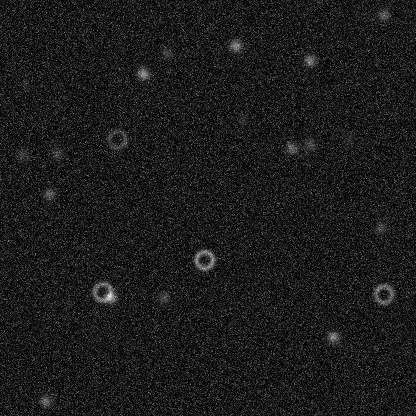Ring: (90, 279, 114, 303), (371, 282, 395, 306), (192, 247, 216, 271), (105, 127, 129, 151)
Spot: (102, 289, 118, 305), (16, 76, 32, 92), (49, 145, 65, 161), (235, 110, 251, 126), (325, 328, 341, 344), (37, 392, 53, 408), (372, 219, 388, 235), (227, 37, 243, 53), (302, 136, 318, 152), (155, 289, 171, 305), (41, 186, 57, 202), (283, 140, 299, 156), (375, 7, 391, 23), (301, 52, 317, 68), (158, 44, 174, 60), (14, 146, 30, 162), (135, 65, 151, 81), (340, 132, 356, 148)
